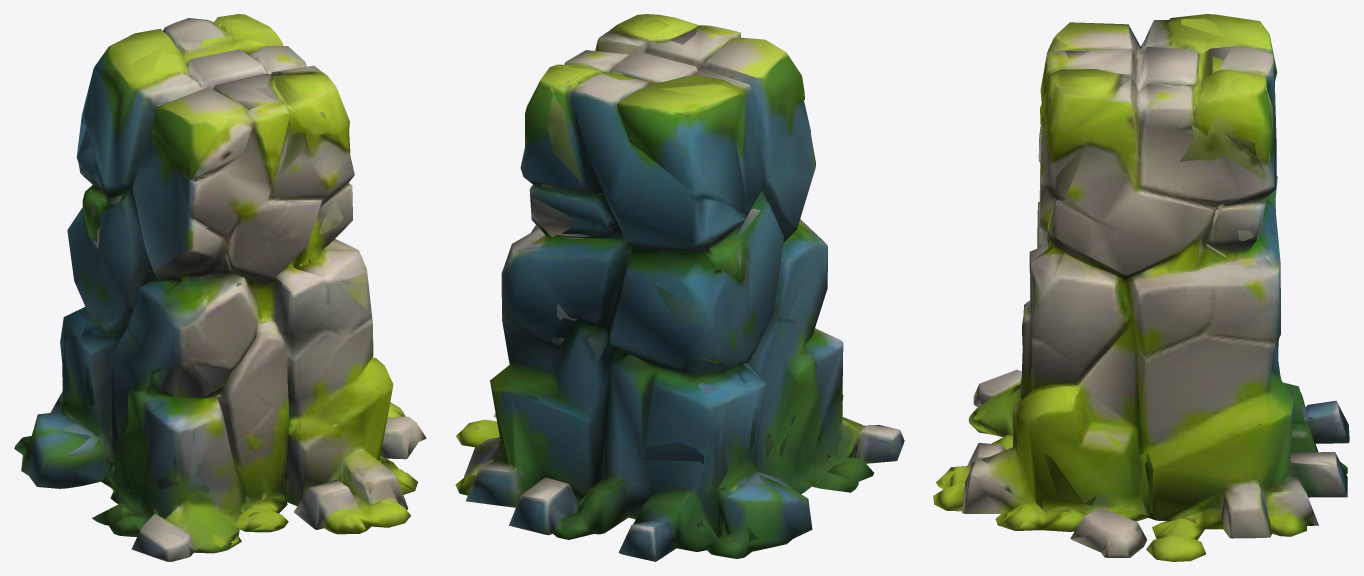
The model's file is DECOR1.glb.
3 views of the same model, side by side, from view 1: azimuth 30°, elevation 25°; view 2: azimuth 150°, elevation 25°; view 3: azimuth 270°, elevation 25° (orthographic). The views are drawn at different scales.
Visible parts, largest first — view 1: node_0; view 2: node_0; view 3: node_0.
Boxes of the visible parts, box(x1,y1,x2,y2) form: node_0: box(14, 14, 426, 561); node_0: box(455, 14, 904, 561); node_0: box(933, 14, 1349, 561).
Size of the model in its own units: 0.7464 by 0.8138 by 0.7362.
1 material, 1 textured.
